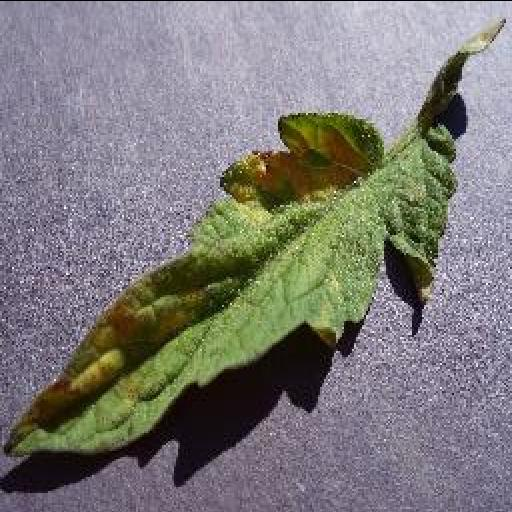disease_tomato: (3, 108, 457, 457)
